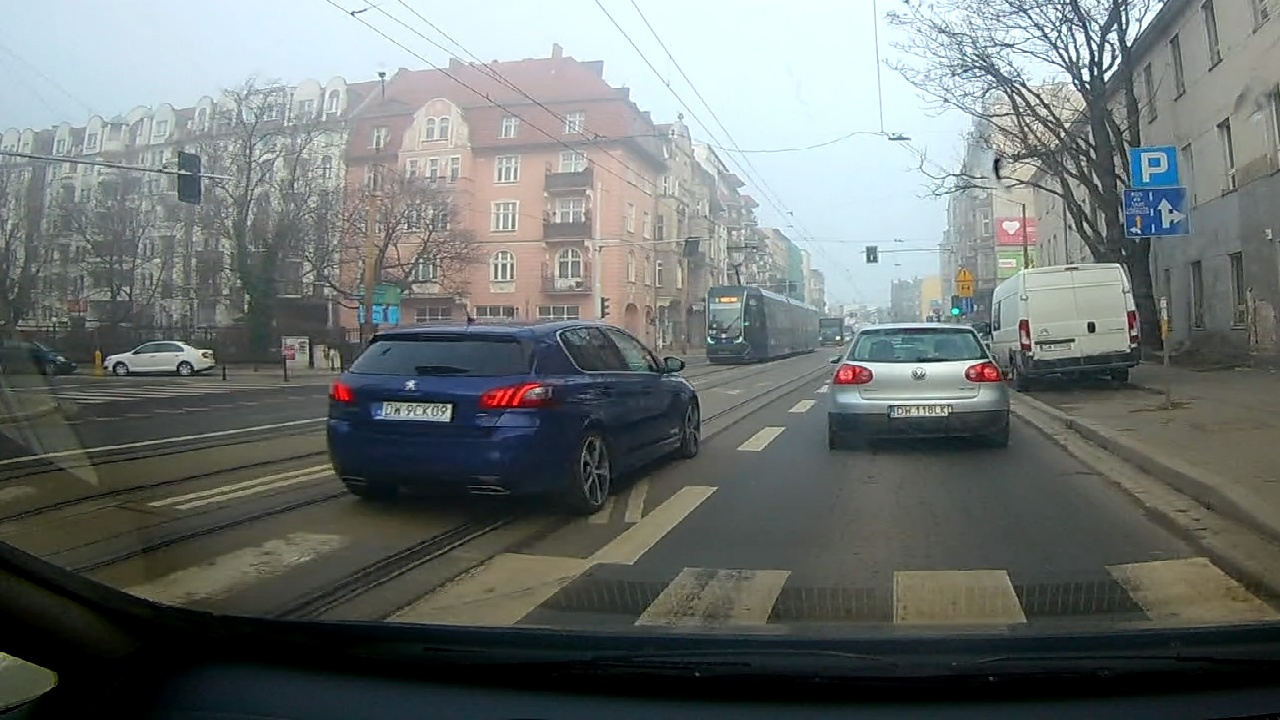D18: (1129, 146, 1180, 187)
